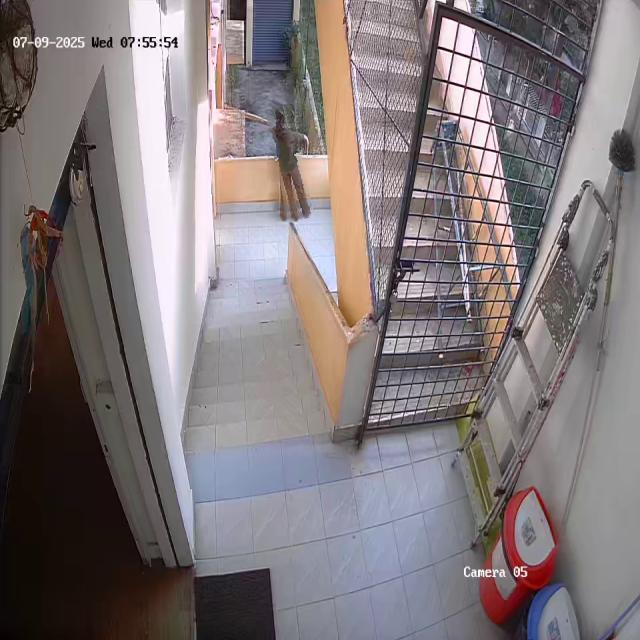person: (270, 105, 309, 222)
